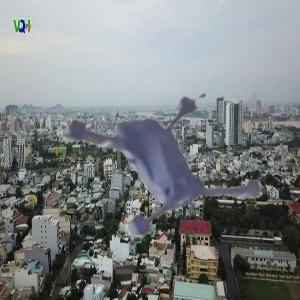drone: (19, 54, 243, 278)
